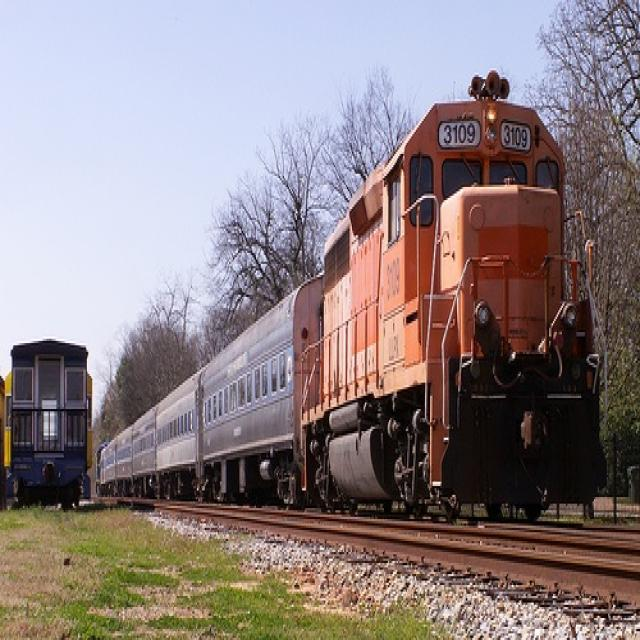train: (95, 99, 604, 526), (2, 337, 94, 508)
